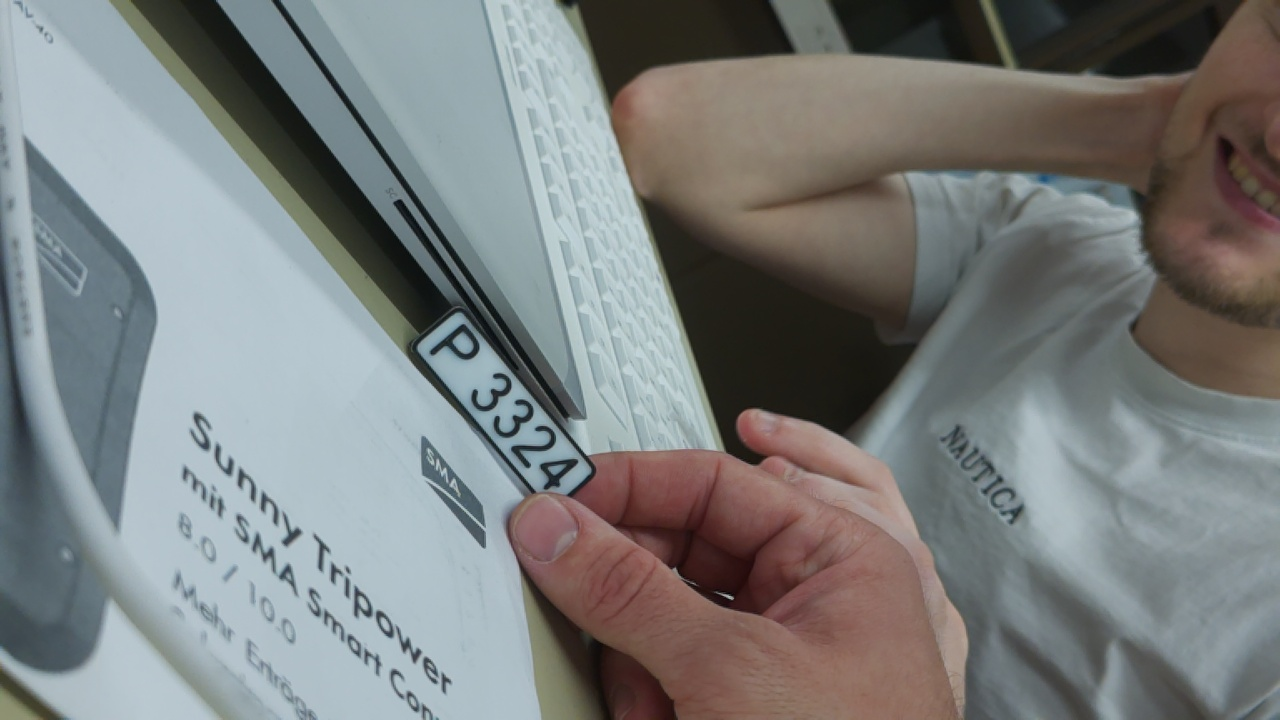license_plate: (402, 284, 609, 523)
